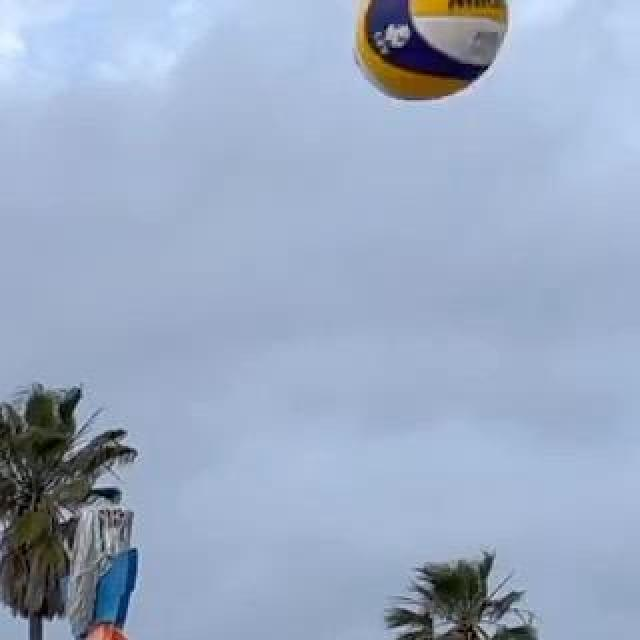volleyball: (354, 0, 508, 100)
